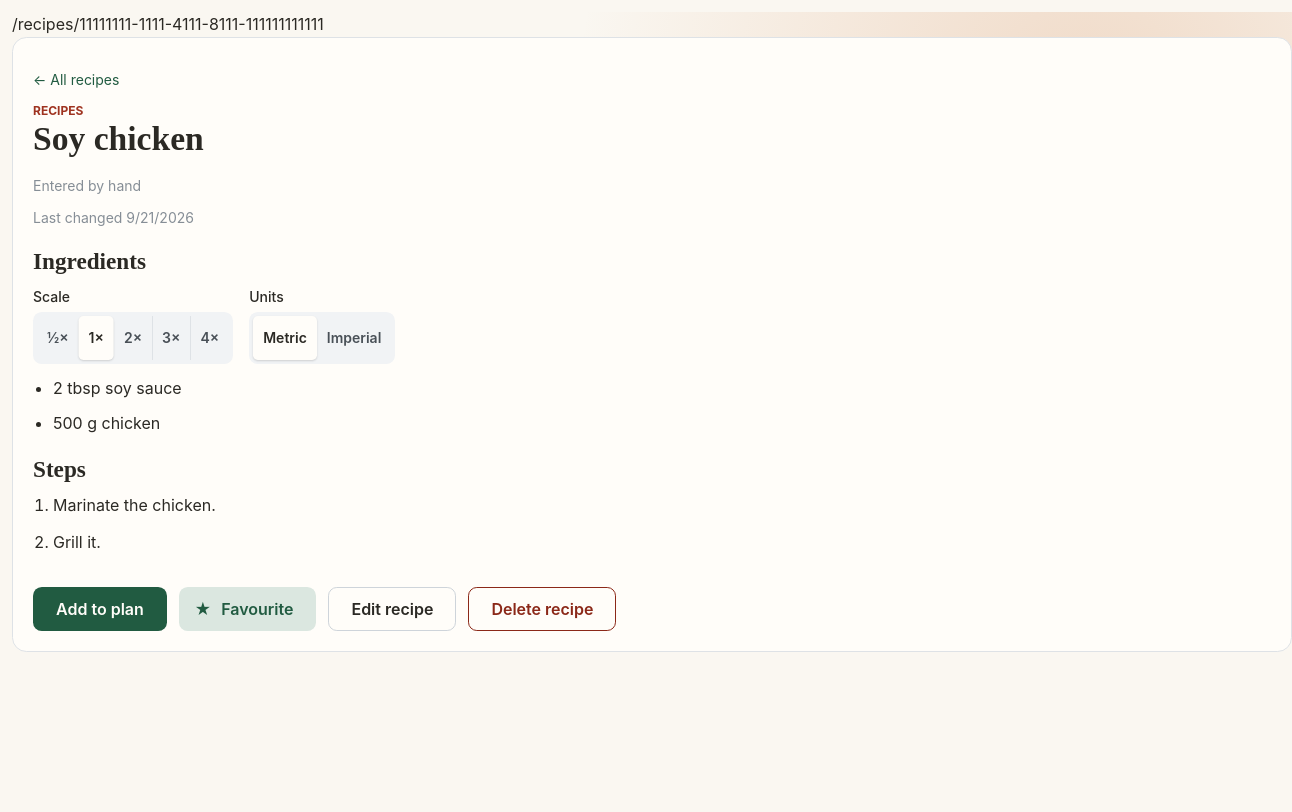
Test: Recipe preferences › keeps the state and says so when a change fails
expect the heading "Soy chicken" is shown: met, box [33,120,204,157]
Click the button with aria-label "Mark as favourite".
click(248, 609)  # box [179,587,316,631]
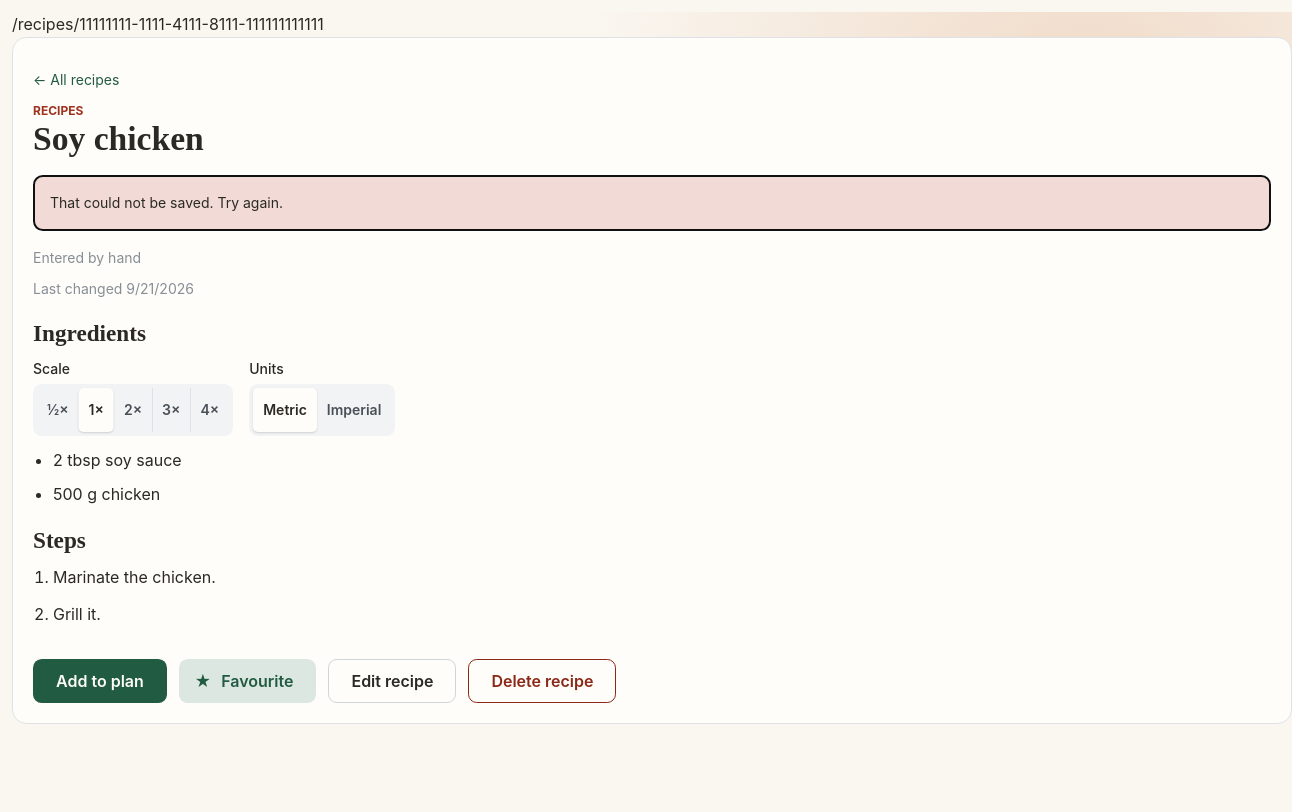
expect the button with aria-label "Mark as favourite" is enabled: met, box [179,659,316,703]
expect the message with test id "recipe-result" reads "That could not be saved. Try again.": met, box [50,194,283,211]
